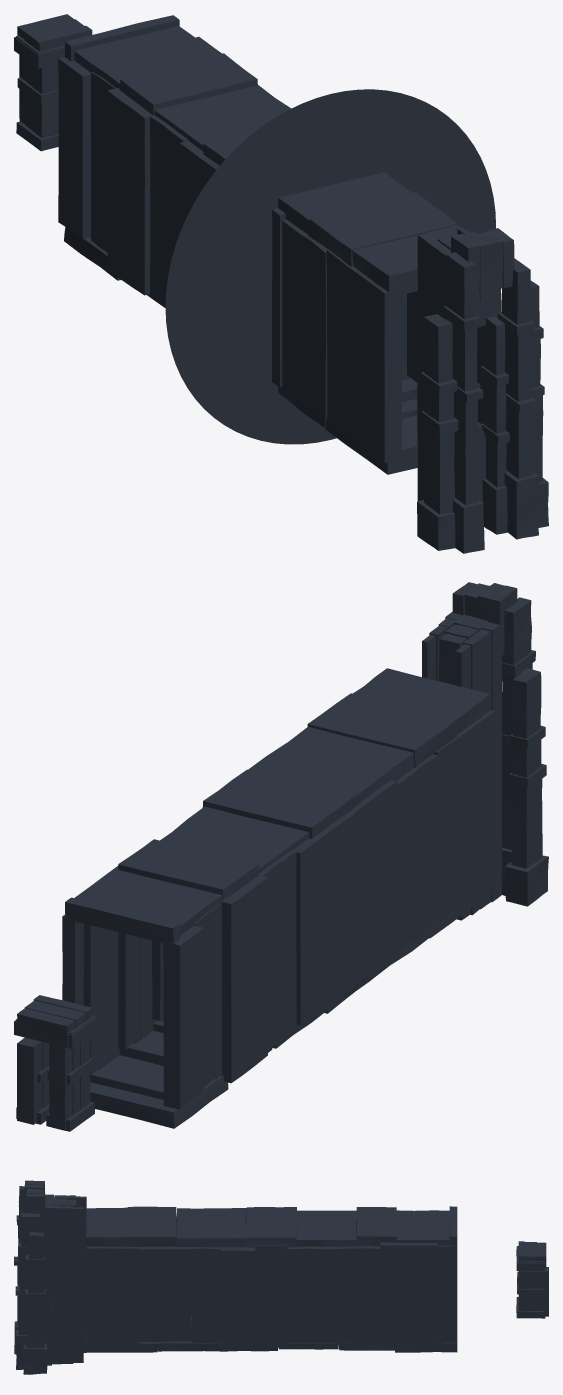
File: DL_Monolith_v01.glb
3 views of the same model, one above another, from view 1: azimuth 30°, elevation 25°; view 2: azimuth 150°, elevation 25°; view 3: azimuth 270°, elevation 25° (orthographic). The views are drawn at different scales.
Parts seen in each view (by area): view 1: DL_Halo, DL_Tunnel_Wall_00, DL_Tunnel_Wall_10, DL_FullForm_Outer_02, DL_FullForm_Outer_06, DL_FullForm_Outer_01, DL_FullForm_Spine, DL_FullForm_Outer_05, DL_Latent_Core_01, DL_Tunnel_Wall_11, DL_FullForm_Outer_04, DL_Tunnel_Rib_00 (+3 smaller); view 2: DL_Tunnel_Wall_00, DL_Tunnel_Wall_10, DL_FullForm_Outer_01, DL_FullForm_Spine, DL_Tunnel_Wall_01, DL_Tunnel_Wall_11, DL_FullForm_Outer_02, DL_Latent_Core_01, DL_Latent_Core_03, DL_Tunnel_Rib_12, DL_Latent_Core_02, DL_Tunnel_Rib_11 (+2 smaller); view 3: DL_Tunnel_Wall_01, DL_Tunnel_Wall_10, DL_FullForm_Spine, DL_FullForm_Outer_07, DL_Tunnel_Wall_11, DL_FullForm_Outer_06, DL_Latent_Core_02, DL_Latent_Core_03, DL_FullForm_Outer_04, DL_FullForm_Outer_02.
Part boxes in pixels (box(x1,y1,x2,y2)): DL_Halo: box(165, 89, 495, 444); DL_Tunnel_Wall_00: box(58, 57, 395, 463); DL_Tunnel_Wall_10: box(64, 15, 460, 291); DL_FullForm_Outer_02: box(443, 252, 484, 553); DL_FullForm_Outer_06: box(497, 258, 539, 539); DL_FullForm_Outer_01: box(417, 314, 458, 550); DL_FullForm_Spine: box(417, 227, 500, 502); DL_FullForm_Outer_05: box(480, 316, 509, 534); DL_Latent_Core_01: box(16, 55, 58, 151); DL_Tunnel_Wall_11: box(64, 227, 417, 474); DL_FullForm_Outer_04: box(451, 228, 514, 302); DL_Tunnel_Rib_00: box(384, 276, 417, 462); DL_Tunnel_Wall_00: box(163, 710, 495, 1109); DL_Tunnel_Wall_10: box(65, 668, 490, 943); DL_FullForm_Outer_01: box(505, 668, 548, 906); DL_FullForm_Spine: box(422, 612, 501, 920); DL_Tunnel_Wall_01: box(62, 866, 163, 1070); DL_Tunnel_Wall_11: box(90, 884, 491, 1128); DL_FullForm_Outer_02: box(501, 597, 535, 895); DL_Latent_Core_01: box(46, 1036, 94, 1131); DL_Latent_Core_03: box(14, 995, 97, 1048); DL_Tunnel_Rib_12: box(83, 924, 163, 1099); DL_Latent_Core_02: box(16, 1037, 49, 1124); DL_Tunnel_Rib_11: box(118, 932, 221, 1078); DL_Tunnel_Wall_01: box(86, 1242, 457, 1349); DL_Tunnel_Wall_10: box(86, 1206, 457, 1247); DL_FullForm_Spine: box(42, 1194, 86, 1365); DL_FullForm_Outer_07: box(23, 1232, 47, 1374); DL_Tunnel_Wall_11: box(86, 1315, 457, 1352); DL_FullForm_Outer_06: box(15, 1212, 39, 1369); DL_Latent_Core_02: box(516, 1267, 548, 1318); DL_Latent_Core_03: box(516, 1241, 546, 1270); DL_FullForm_Outer_04: box(24, 1180, 45, 1222); DL_FullForm_Outer_02: box(14, 1186, 40, 1354).
Size of the model in its own units: 8.4 by 8.4 by 20.34.
